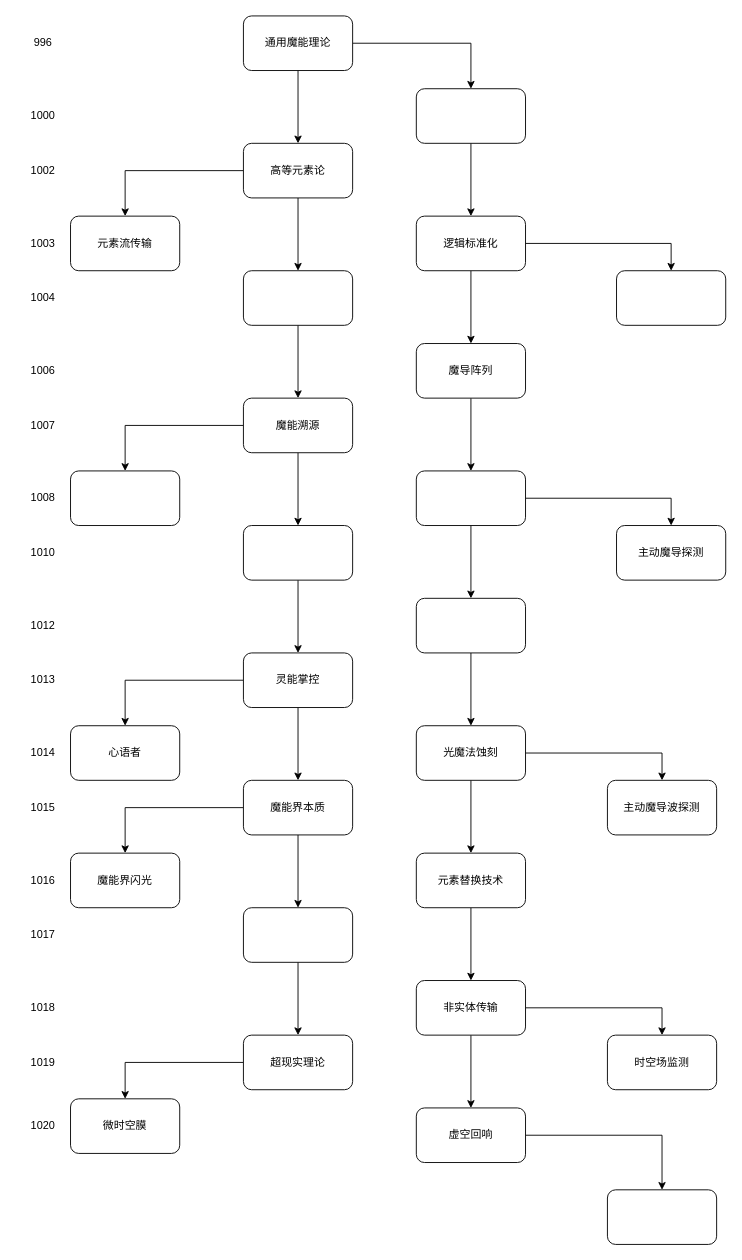
The diagram is 742 pixels wide and 1260 high, and some of its shapes have lost their labels. The centre of each missing label's shape, as x and y in pixels:
元素统一理论: [298,297]
晦暗之光: [662,1216]
灵能认识: [298,552]
现实扭曲理论: [298,934]
空信术: [125,498]
高精度扩增: [470,625]
魔灵核心: [470,115]
魔电效应: [671,297]
魔纹微型化: [470,498]
